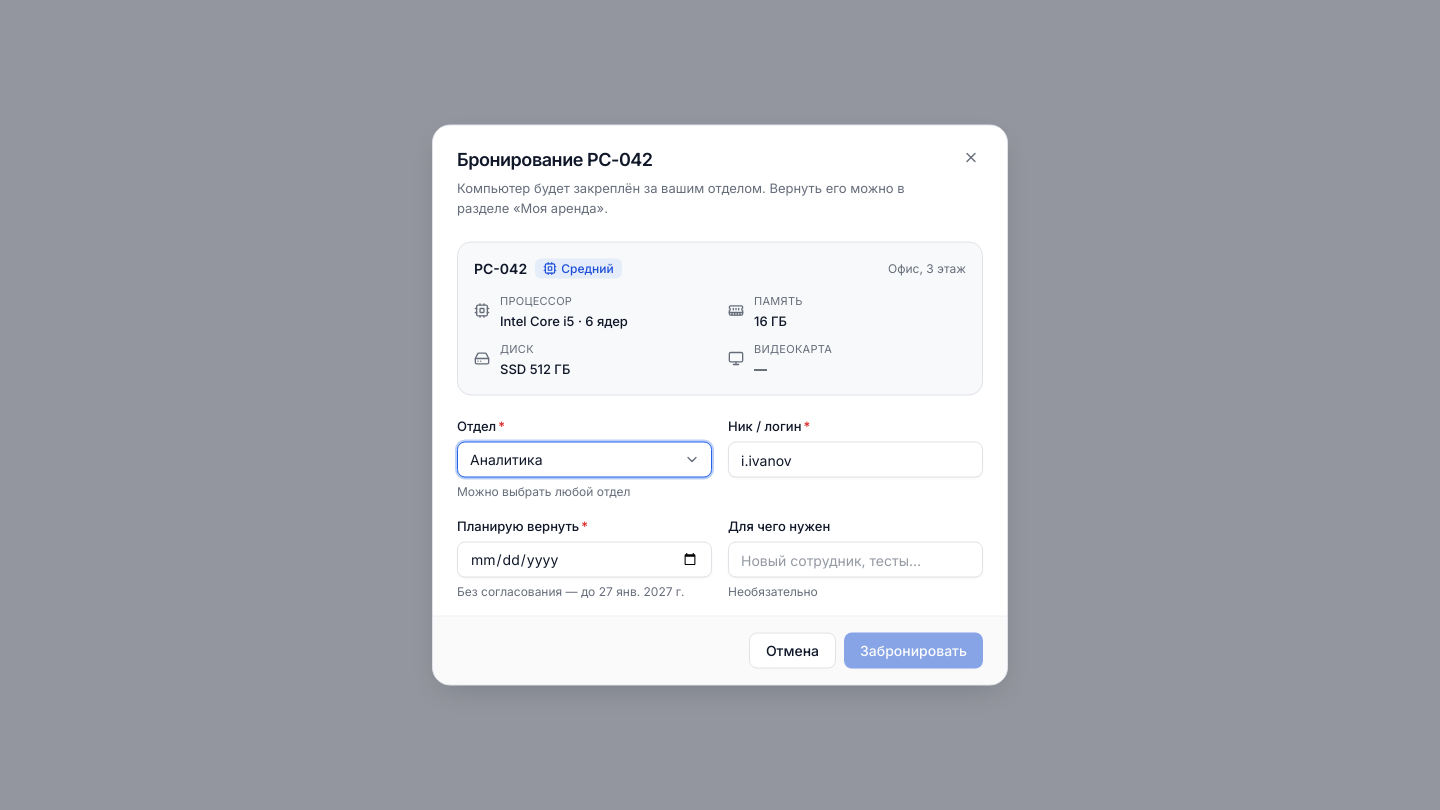
Scenario: BookingDialog › подставляет последний выбранный отдел из localStorage
Expected: the dropdown labelled "Отдел* Можно выбрать любой отдел" shows "Аналитика", [457,442,712,478]
Step 1. Type "2099-12-31" into the date field labelled "Планирую вернуть" → [584, 560], box [457,542,712,578]
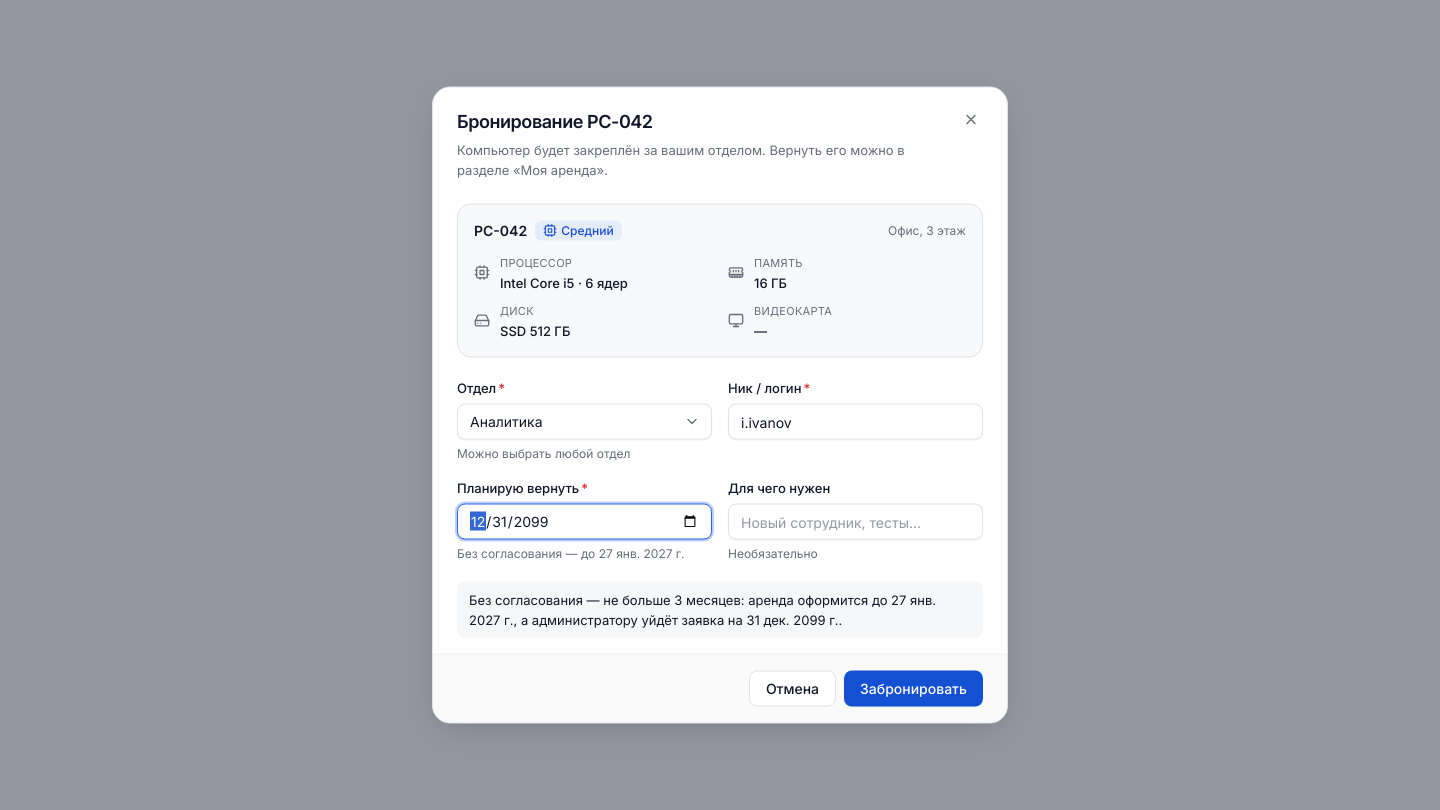
Expected: the button "Забронировать" is enabled, [844,670,983,706]
